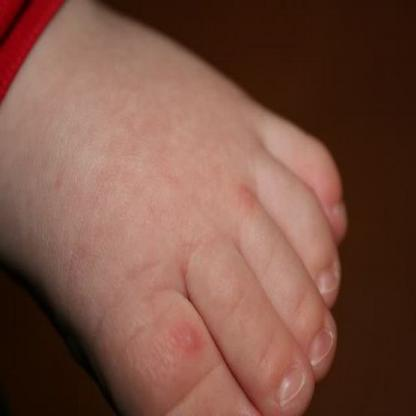Fire ant: (172, 320, 201, 351), (235, 180, 260, 211)
